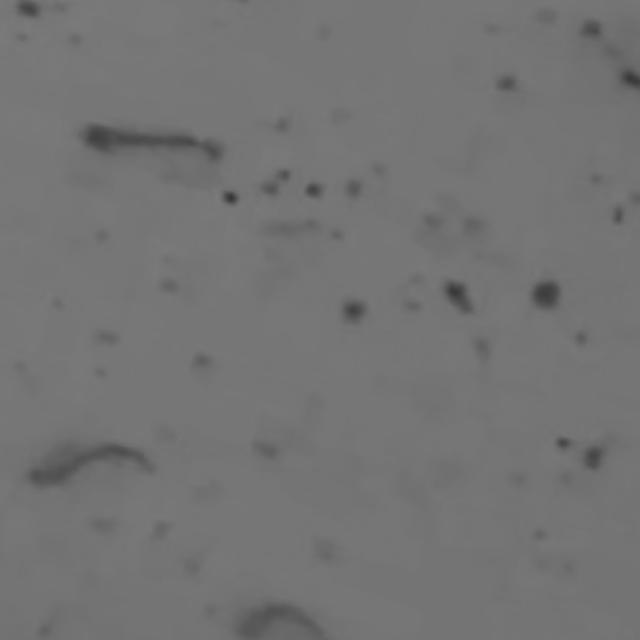larvas: (82, 113, 214, 160), (23, 446, 151, 486), (242, 606, 326, 640)
